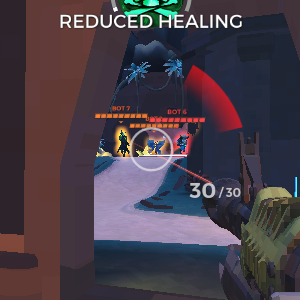model: (115, 125, 132, 163), (173, 130, 192, 159), (147, 136, 166, 155)
